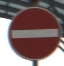No entry: (5, 6, 59, 60)
